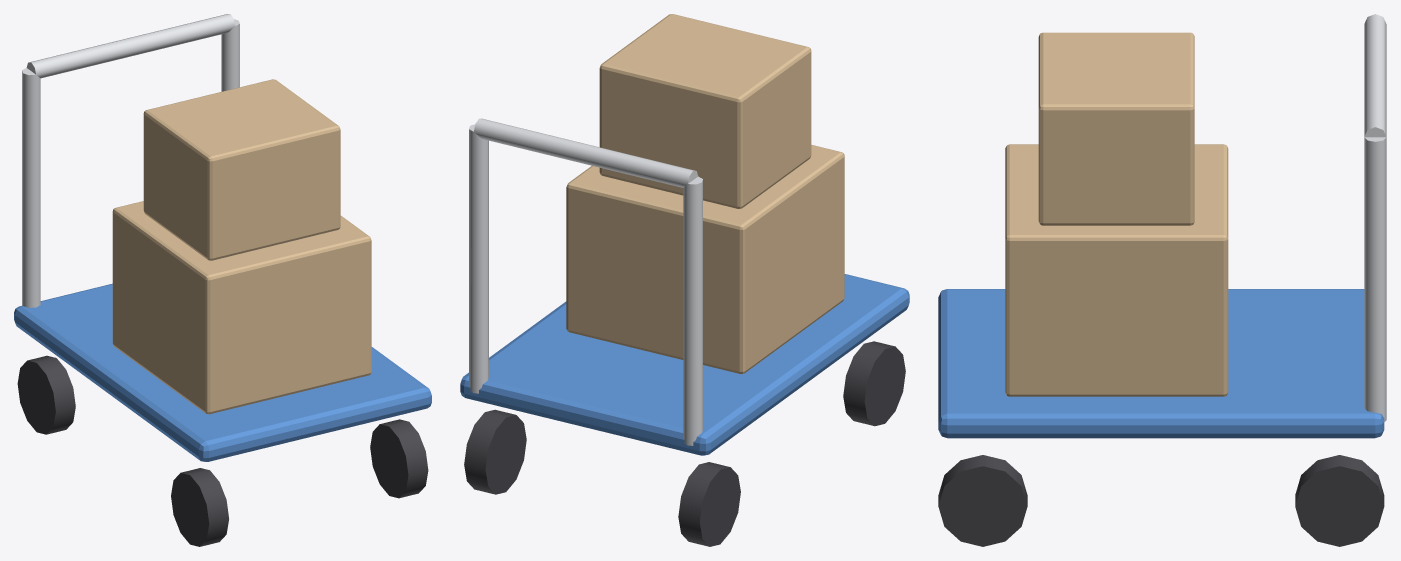
The model's file is Carrito.fbx.
3 renders of one model, left to right at view 1: azimuth 30°, elevation 25°; view 2: azimuth 150°, elevation 25°; view 3: azimuth 270°, elevation 25°, orthographic. The views are drawn at different scales.
Parts seen in each view (by area): view 1: Cuerpo; view 2: Cuerpo; view 3: Cuerpo.
Part boxes in pixels (x1,y1,x2,y2): Cuerpo: [14, 14, 431, 546]; Cuerpo: [460, 14, 909, 546]; Cuerpo: [938, 14, 1386, 546].
Size of the model in its own units: 0.7 by 1.03 by 1.
